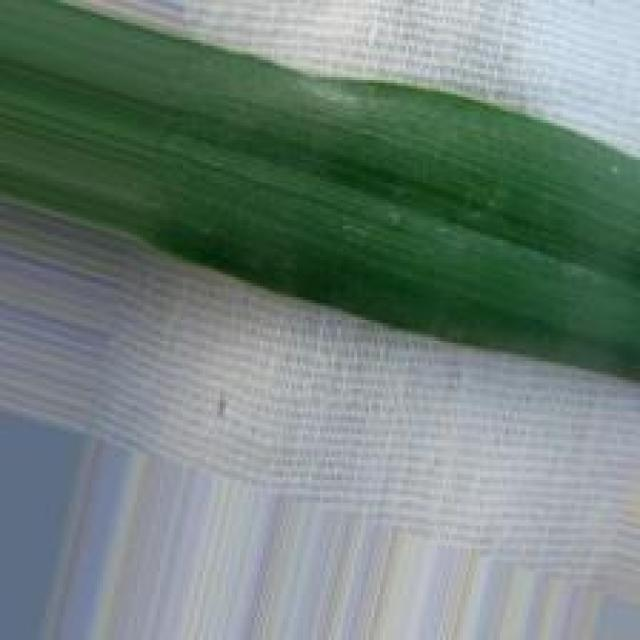Healthy: (0, 0, 640, 386)
